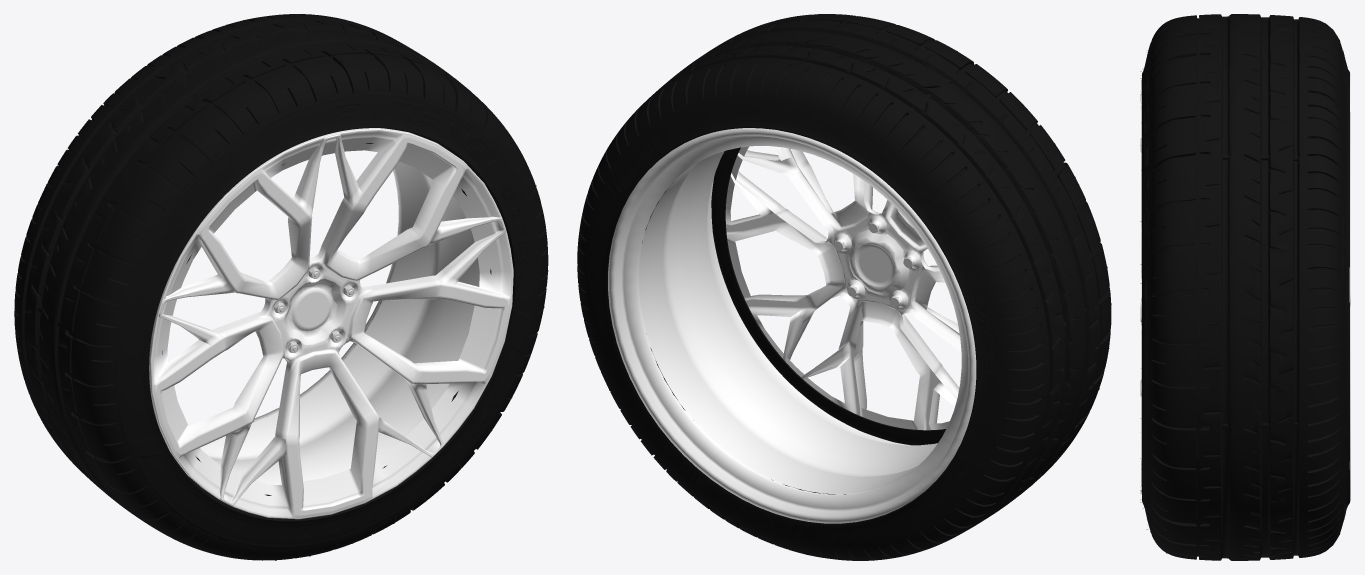
The model's file is tireChromed.glb.
3 renders of one model, left to right at view 1: azimuth 30°, elevation 25°; view 2: azimuth 150°, elevation 25°; view 3: azimuth 270°, elevation 25°, orthographic.
Parts seen in each view (by area): view 1: Pirelli PZero Corsa R.003, Circle; view 2: Pirelli PZero Corsa R.003, Circle; view 3: Pirelli PZero Corsa R.003, Circle.
Part boxes in pixels (left/top/right/bottom): Pirelli PZero Corsa R.003: left=14, top=14, right=548, bottom=560; Circle: left=149, top=128, right=513, bottom=519; Pirelli PZero Corsa R.003: left=577, top=14, right=1111, bottom=560; Circle: left=608, top=128, right=976, bottom=523; Pirelli PZero Corsa R.003: left=1140, top=14, right=1349, bottom=560; Circle: left=1140, top=73, right=1350, bottom=501.
Size of the model in its own units: 0.6991 by 0.6985 by 0.2692.
4 materials, 1 textured.
